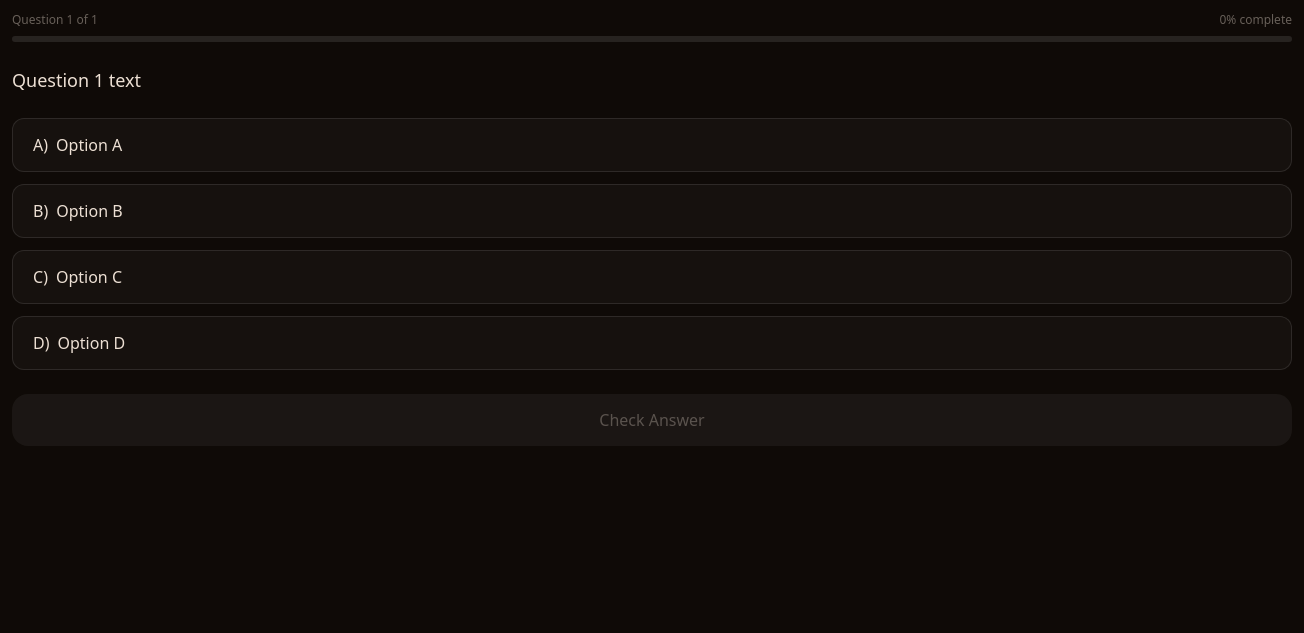
QuizRenderer — answer reveal › shows the explanation after clicking "Check Answer"
This screenshot has width=1304, height=633.
Step 1. Click the button "B)Option B" → (89, 211), box x1=12 y1=184 x2=1292 y2=238
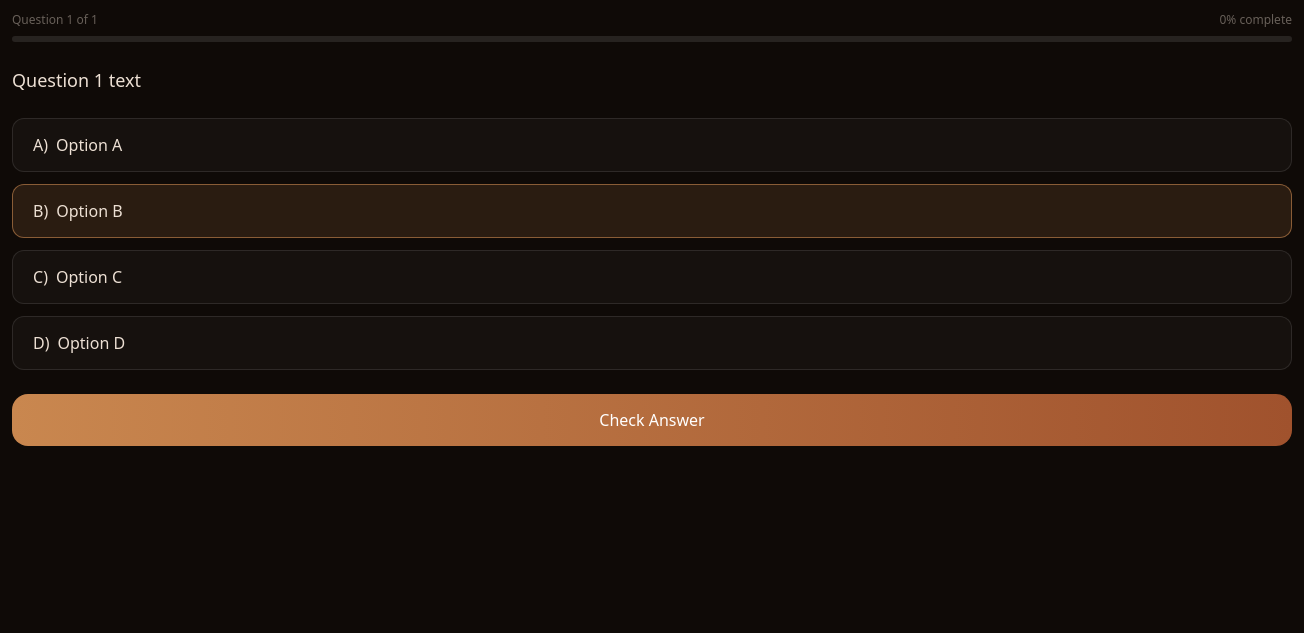
Step 2. Click the button "Check Answer" → (652, 420), box x1=12 y1=394 x2=1292 y2=446
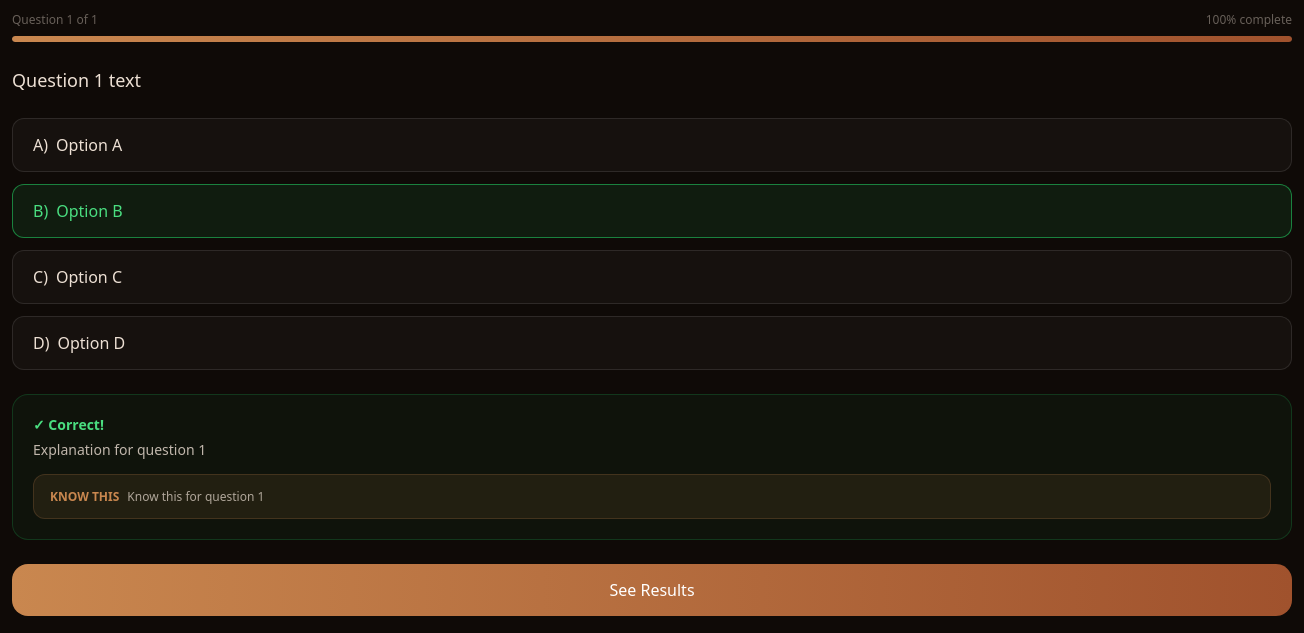
Now the text "Explanation for question 1" is shown, box x1=33 y1=440 x2=206 y2=459
